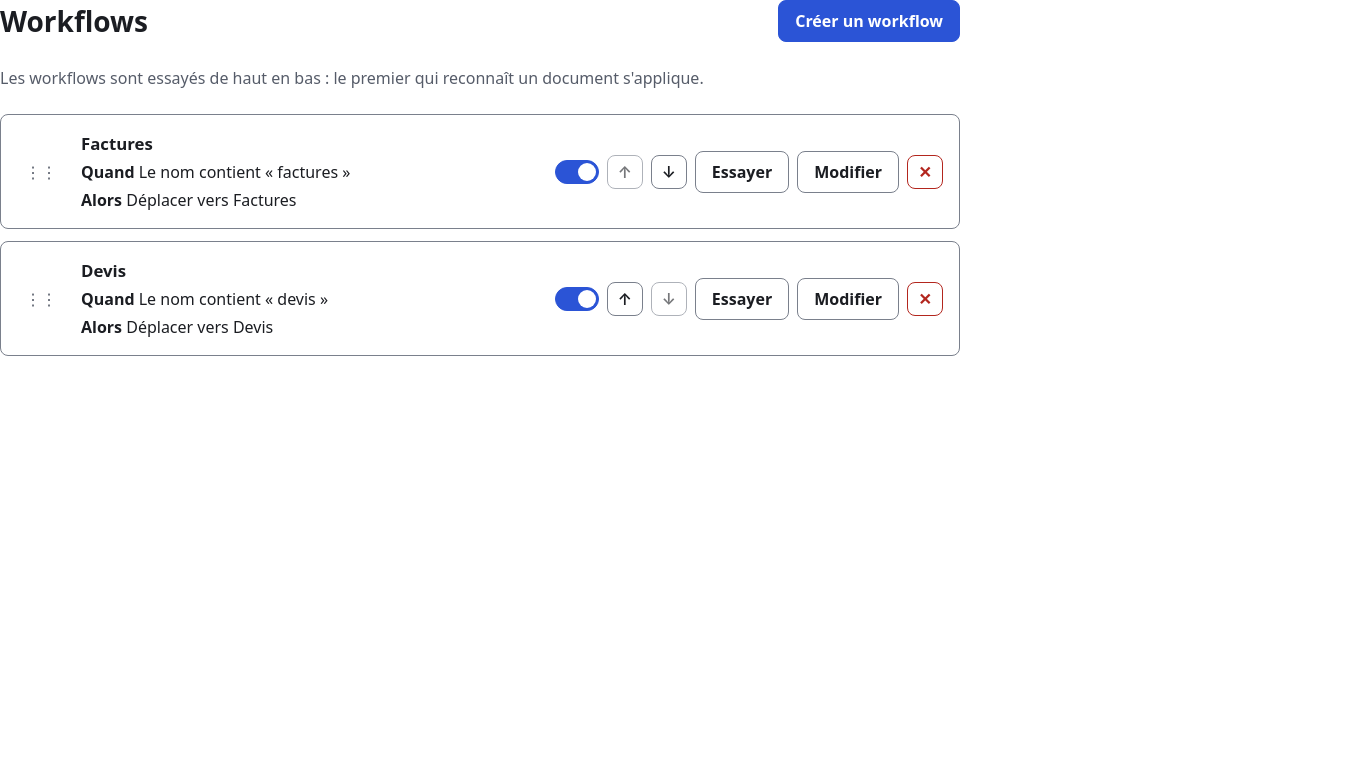
WorkflowsScreen › deletes only after confirmation
Click the button "✕" in the row of "Le nom contient « devis »": point(925, 299) [907,282,943,316]
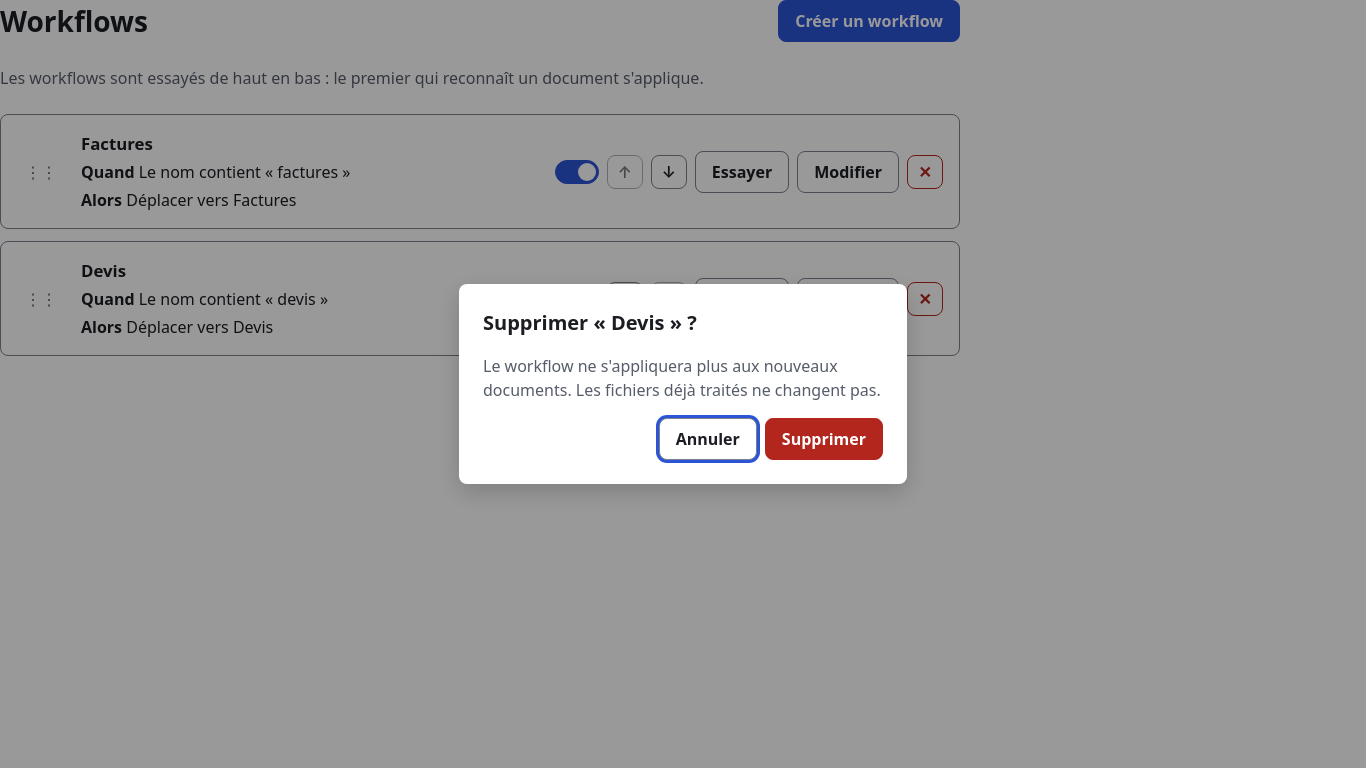
Click the button "Annuler": point(708, 439) [659,418,757,460]
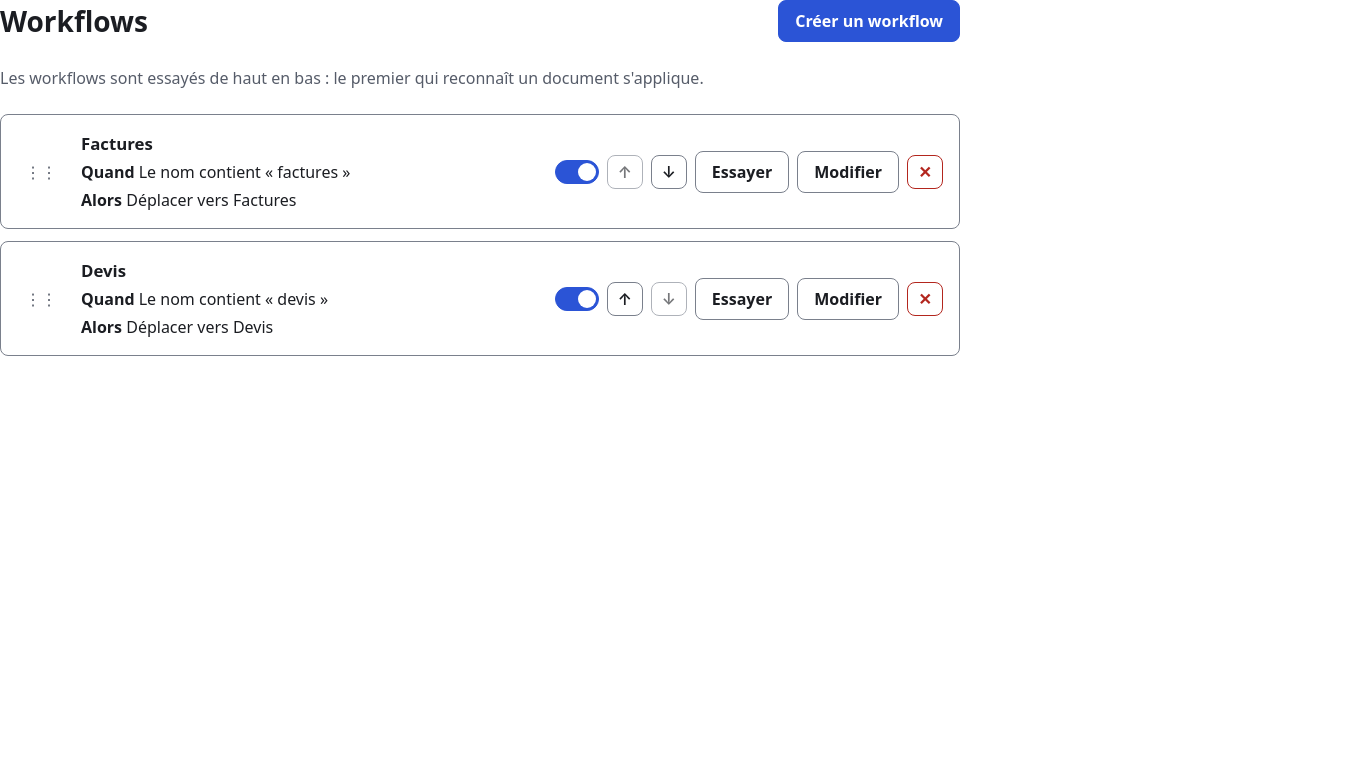
Click the button "✕" in the row of "Le nom contient « devis »": point(925, 299) [907,282,943,316]
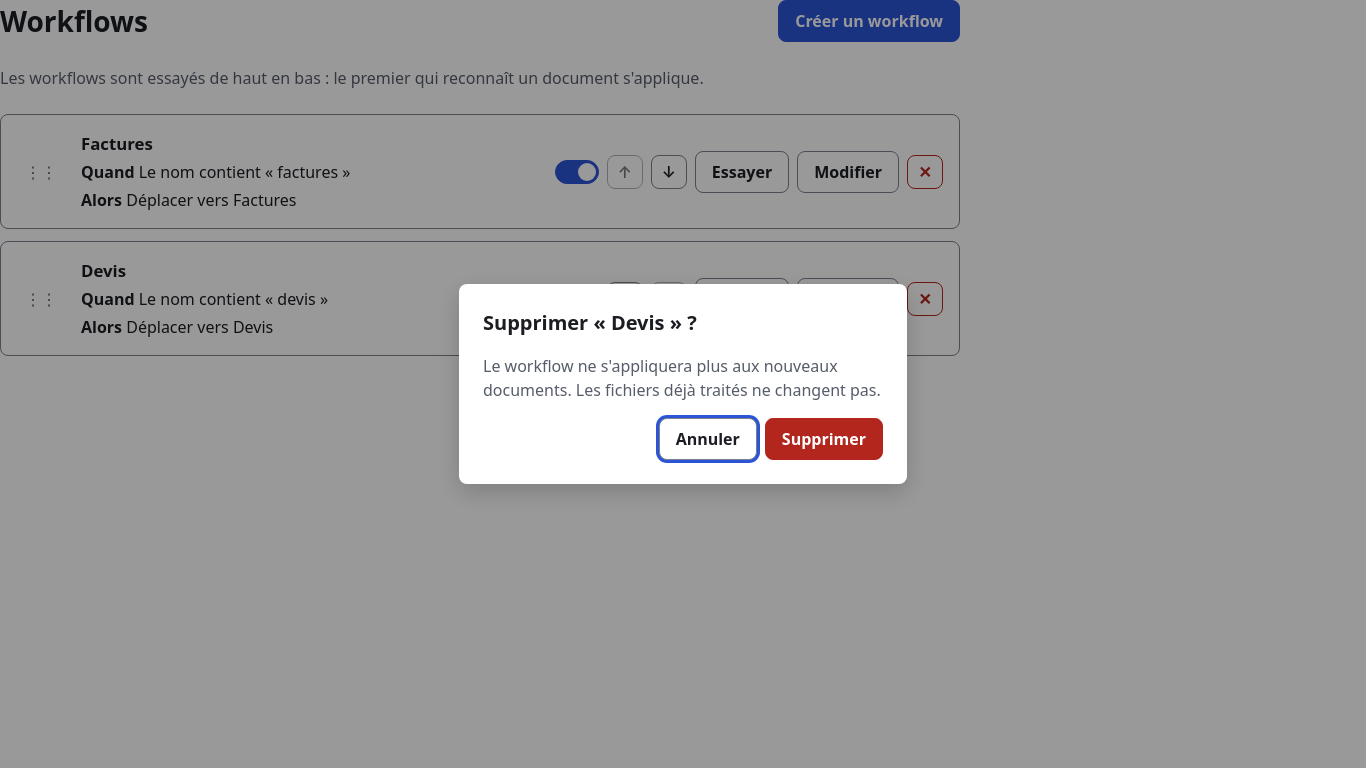
Click the button "Supprimer": point(824, 439) [765,418,883,460]
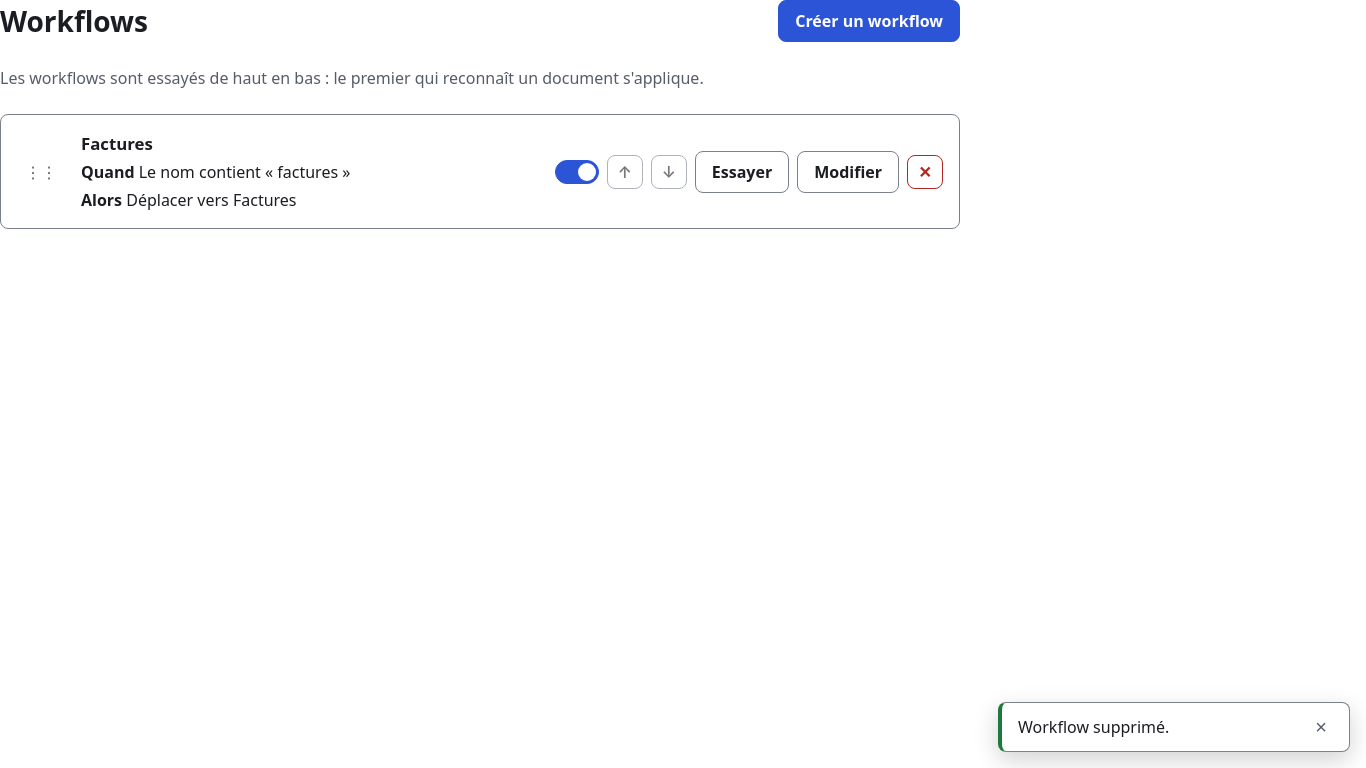
Now the text "Workflow supprimé." is shown, box [1018,716,1169,738]
